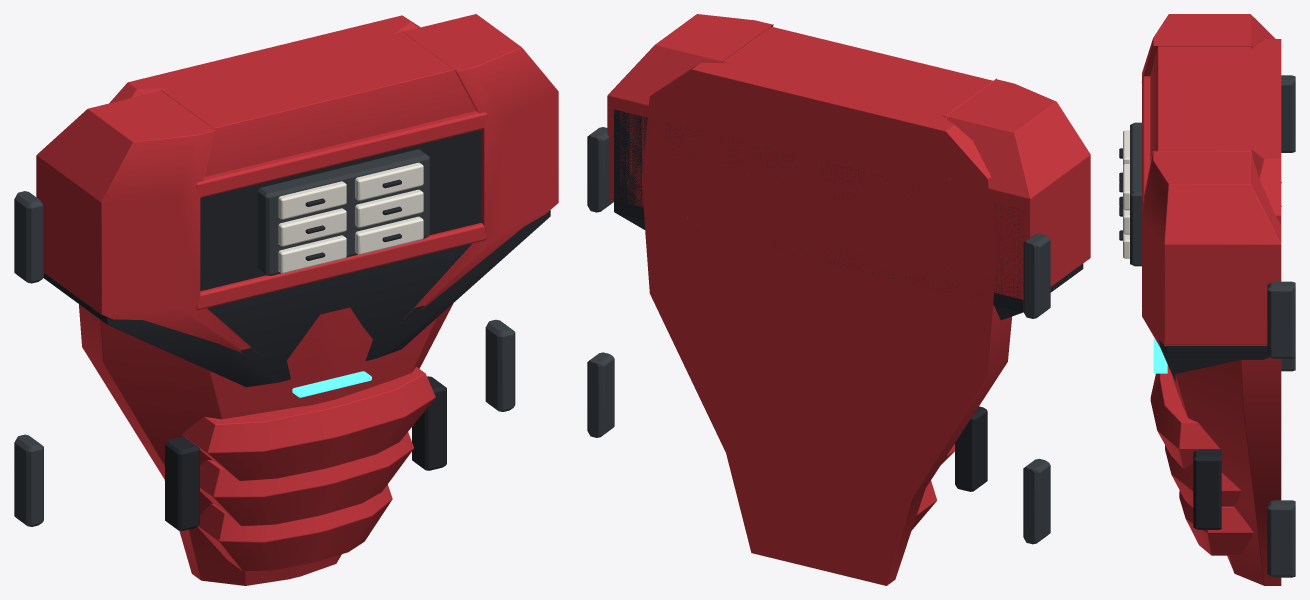
The model's file is BodyFront_Set07_Salvo.fbx.
The picture shows the model from 3 angles, left to right: view 1: azimuth 30°, elevation 25°; view 2: azimuth 150°, elevation 25°; view 3: azimuth 270°, elevation 25°; orthographic projection. The views are drawn at different scales.
Visible parts, largest first — view 1: BodyFront_Set07_Salvo; view 2: BodyFront_Set07_Salvo; view 3: BodyFront_Set07_Salvo.
Boxes of the visible parts, x1,y1,x2,y2 form: BodyFront_Set07_Salvo: [14, 14, 558, 585]; BodyFront_Set07_Salvo: [587, 14, 1090, 585]; BodyFront_Set07_Salvo: [1119, 14, 1295, 585].
Size of the model in its own units: 1.07 by 1.06 by 0.3722.
